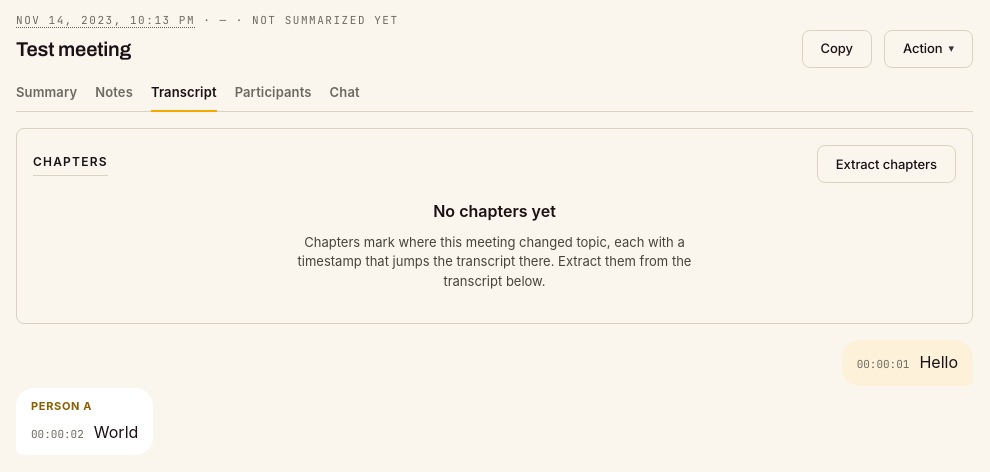
Test: diarization_unavailable banner in SummaryPane › points at grouping the voices once the model is ready again
Click the text "participants" at (273, 92), box [235,82,312,103]
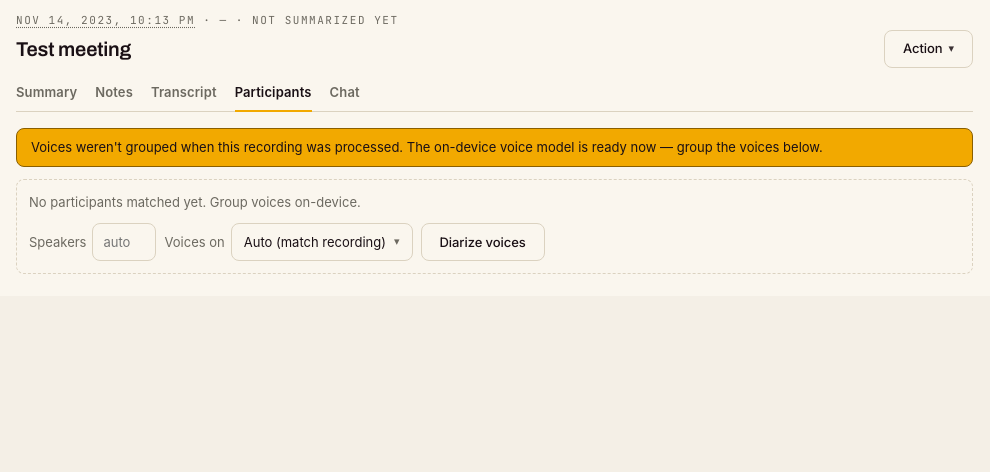
expect the text with test id "diarization-unavailable-banner" does not show "missing": met, box [16,128,973,167]
expect the text with test id "diarization-unavailable-banner" shows "voice model is ready now": met, box [31,139,823,155]
